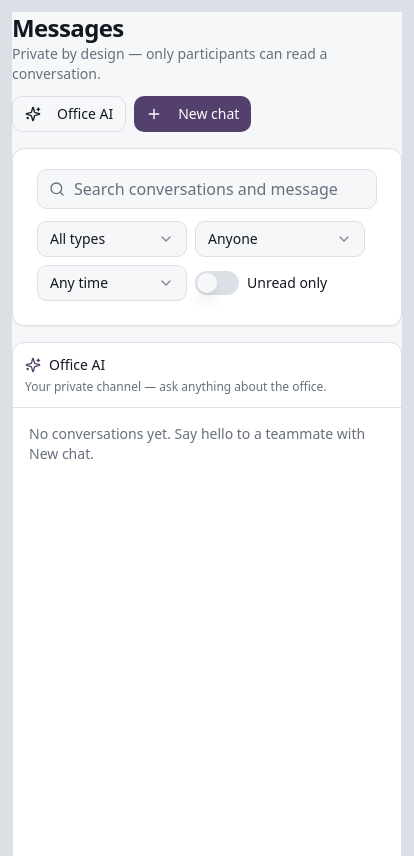
Messages for an employee › lists every teammate with a login under New chat and offers Office AI before the channel exists
Later steps or results of the test are not shown.
Check: the text "Your private channel — ask anything about the office." is shown, box [25,379,326,395]
What coordinates should you click on to do the following:
click the button "New chat"
I would click on:
 (193, 114)
Its box is [134,96,251,132].
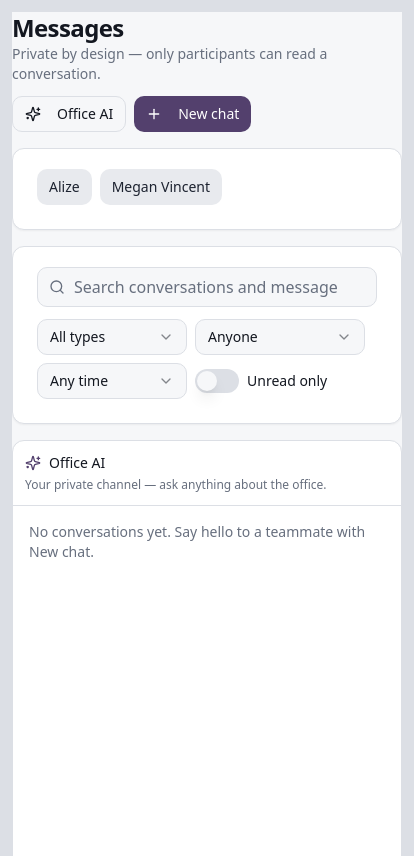
Check: the button "Alize" is shown, box [37,169,92,205]
Check: the button "Megan Vincent" is shown, box [100,169,222,205]
